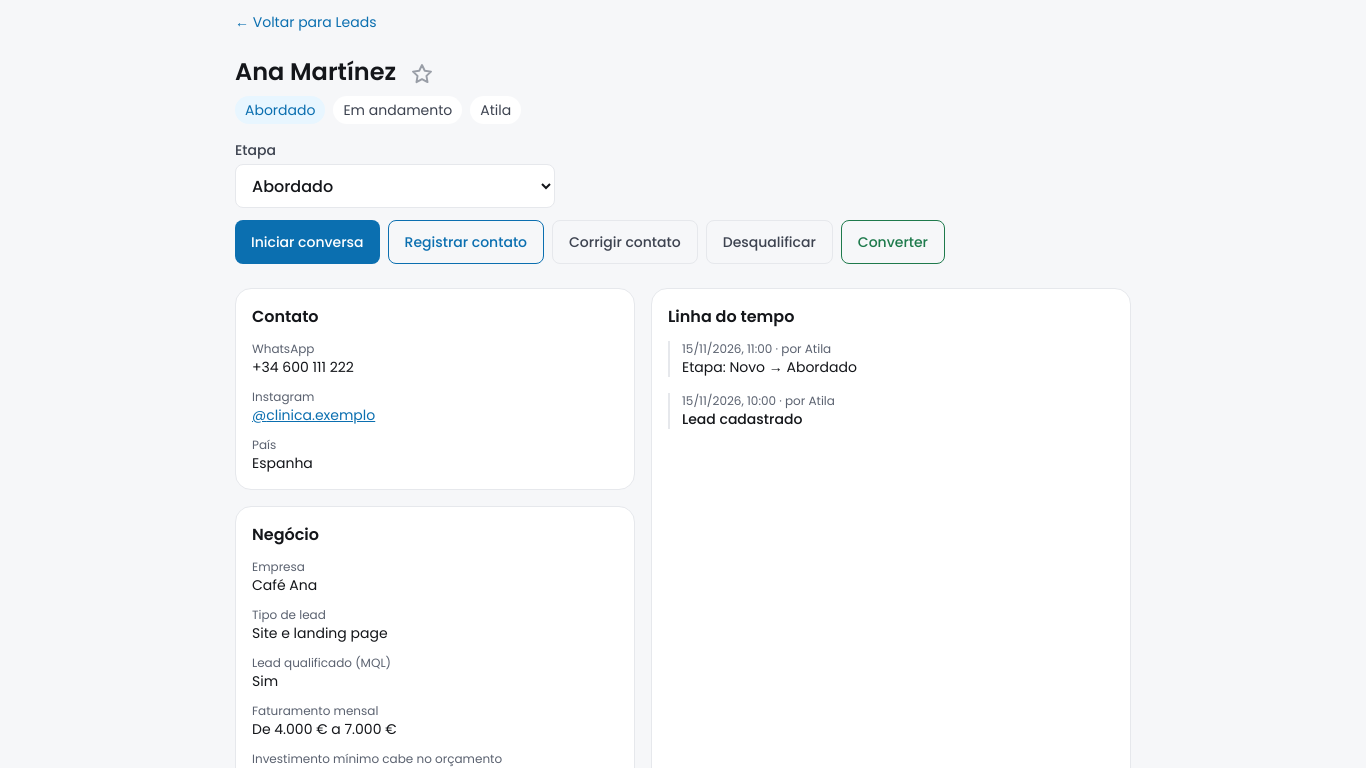
Test: ficha do lead › registrar contato envia ao banco e mostra a regra que ele devolve
The width and height of the screenshot is (1366, 768).
Click the button "Registrar contato".
click(466, 242)  # box [388,220,544,264]
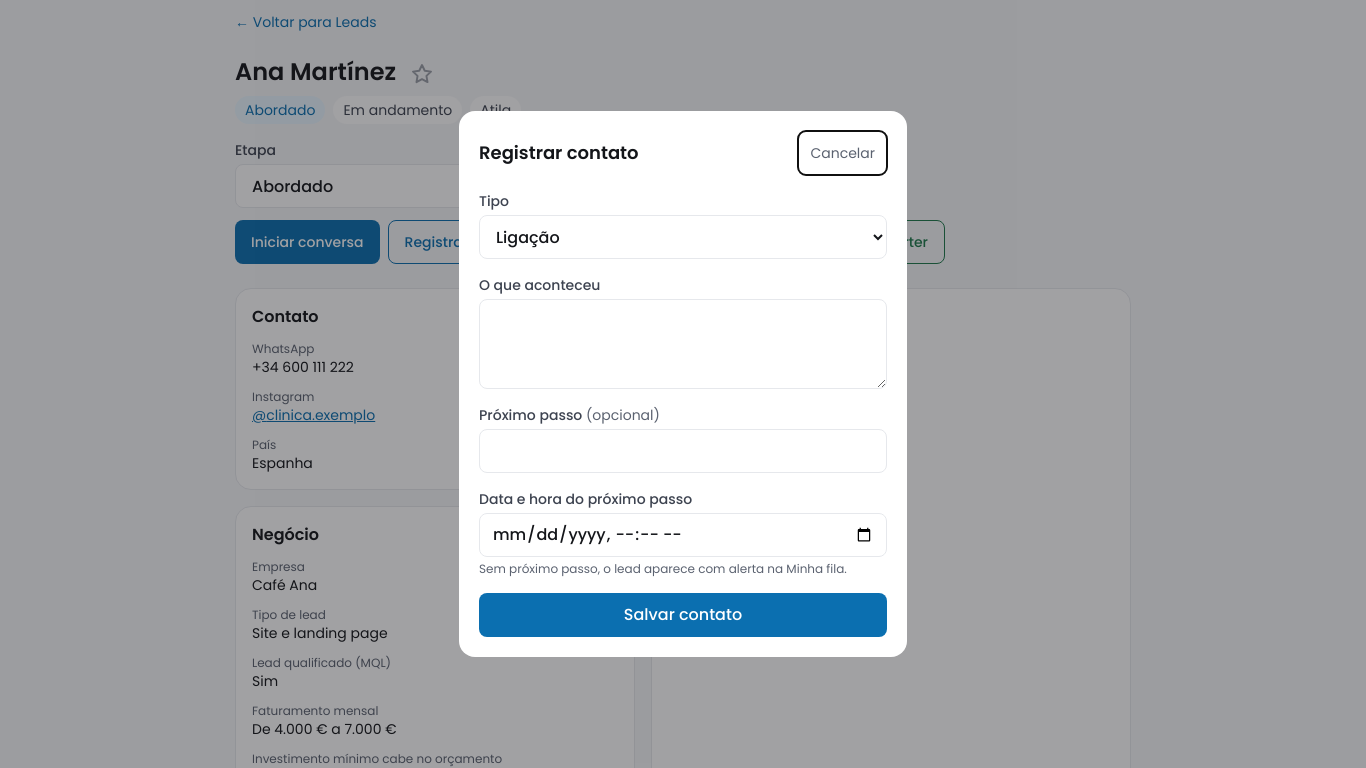
Type "Liguei, pediu proposta" into the text box labelled "O que aconteceu".
click(683, 344); type("Liguei, pediu proposta")  # box [479,299,887,389]
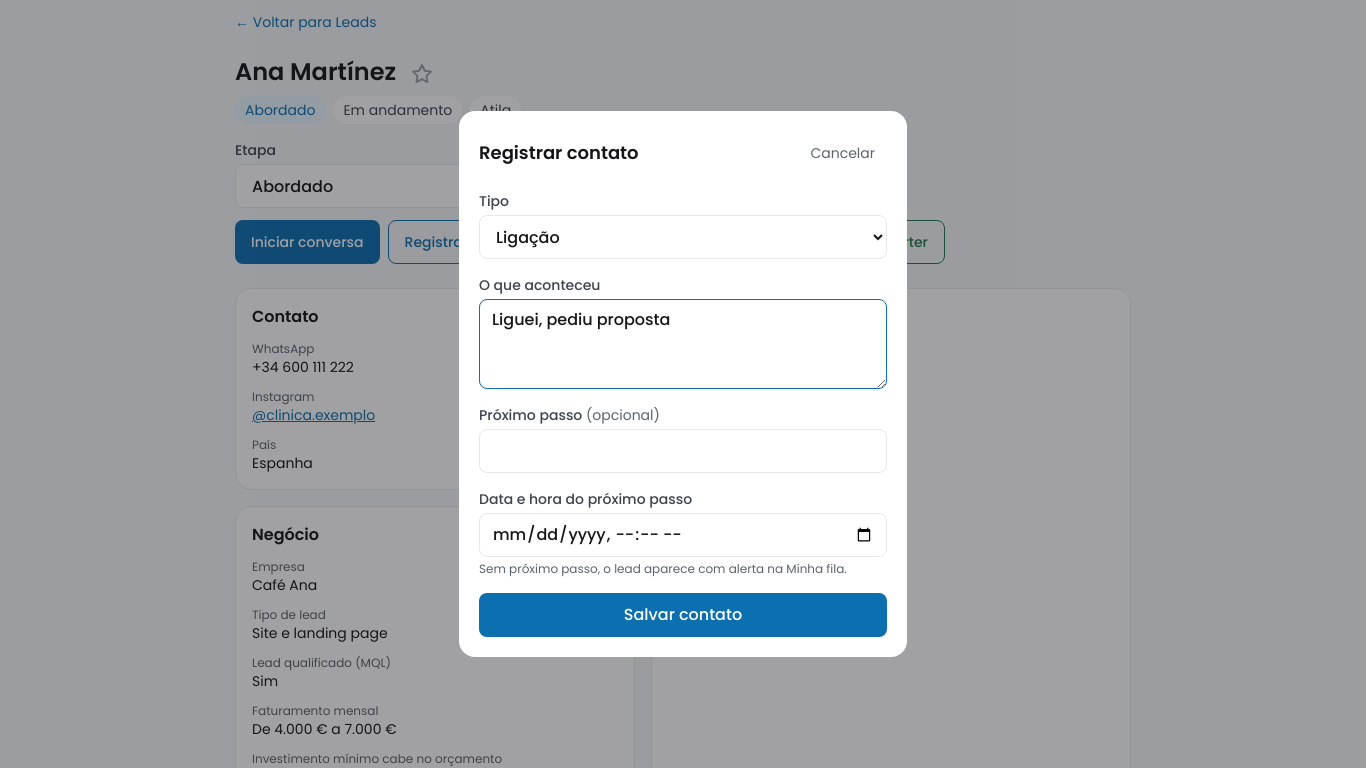
Type "Enviar proposta" into the field labelled "Próximo passo (opcional)".
click(683, 451); type("Enviar proposta")  # box [479,429,887,473]
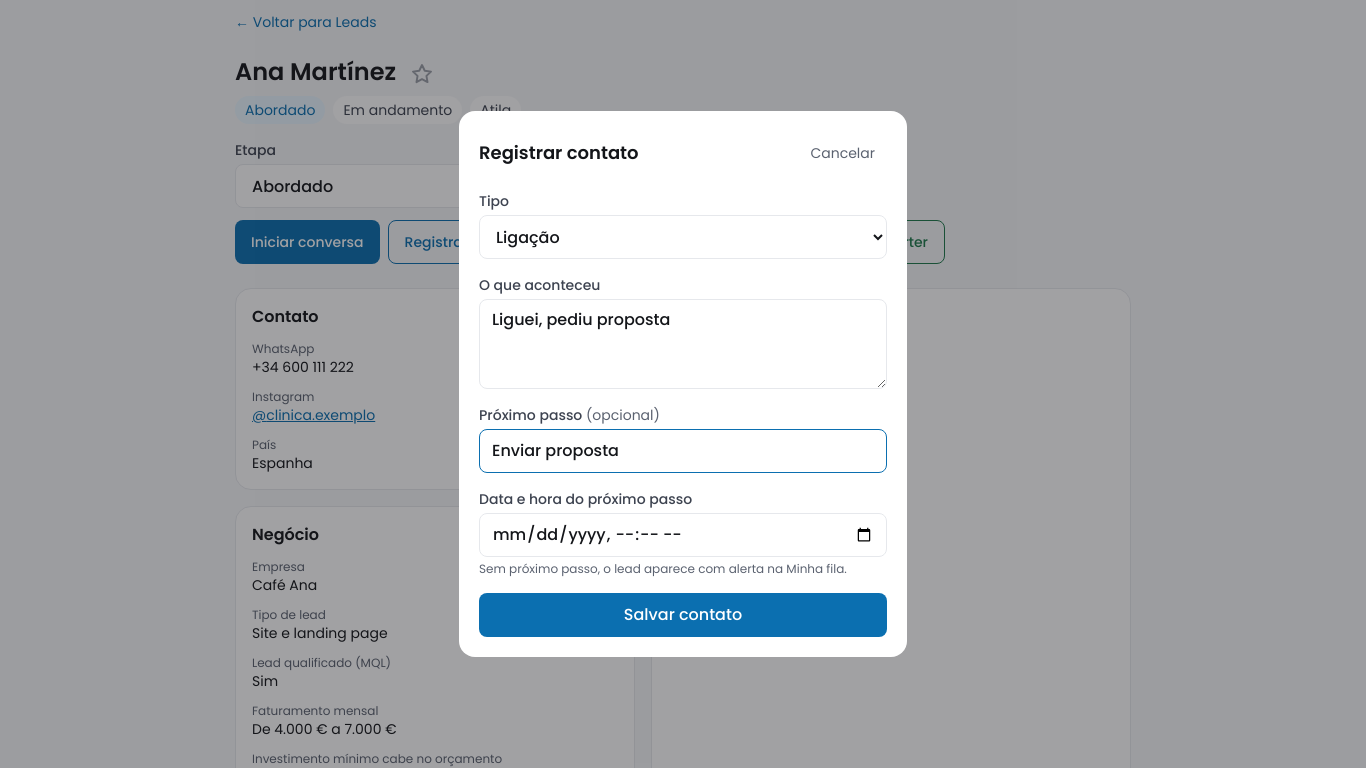
Click the button "Salvar contato".
click(683, 615)  # box [479,593,887,637]
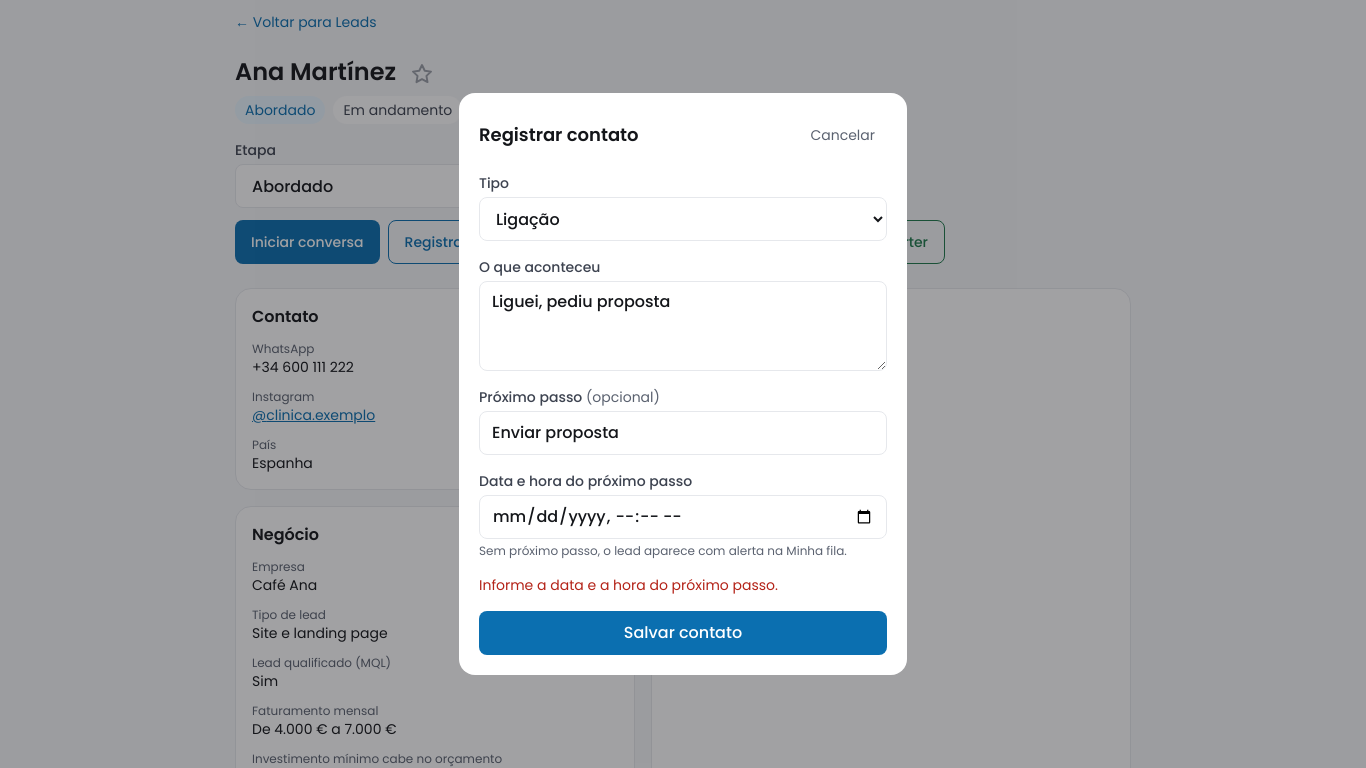
Expected: the message reads "Informe a data e a hora do próximo passo.", [479,575,778,595]
